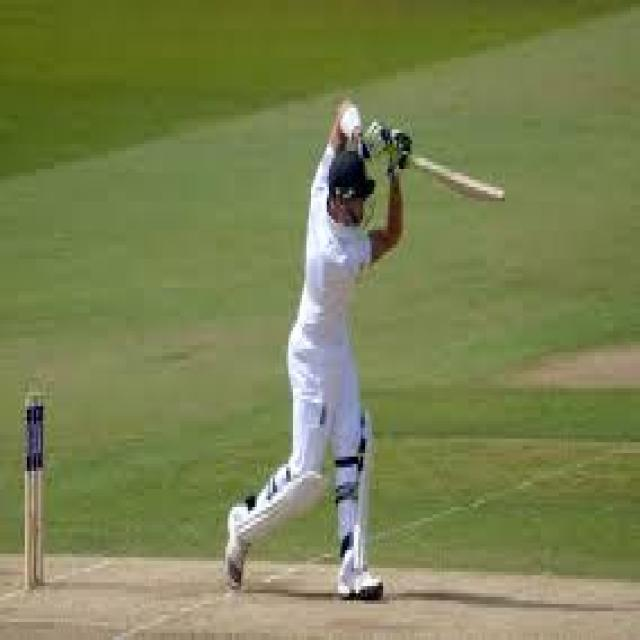toe: (473, 174, 512, 217)
